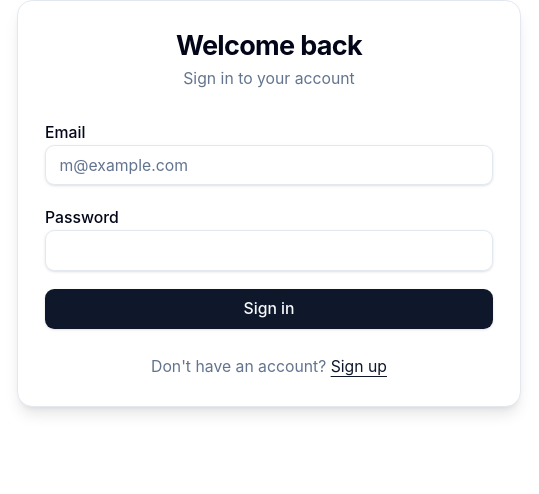
it: LoginForm validation › shows email required error when submitted with empty email
Click the button "Sign in": (269, 309) [45,289,493,330]
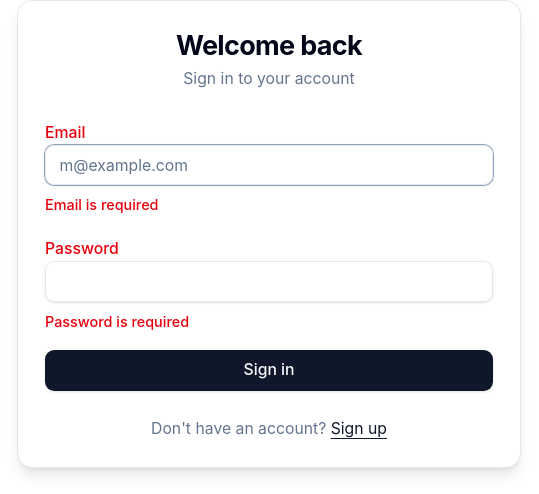
expect the text "Email is required" is shown: met, box [45,196,158,214]
